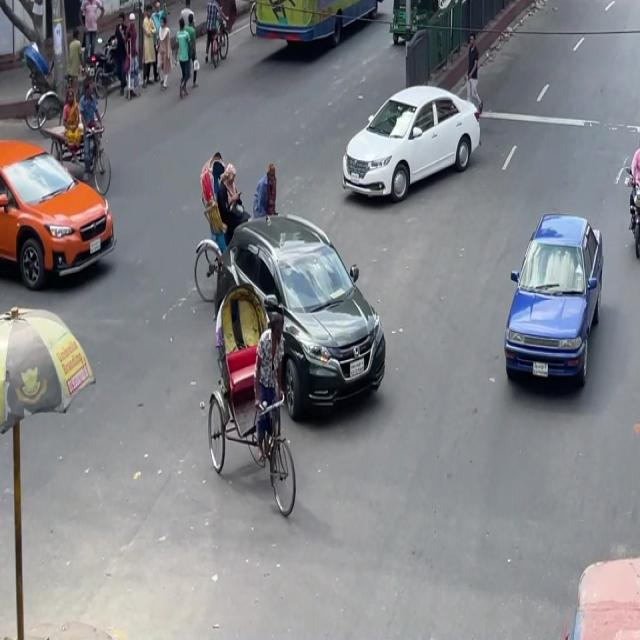bicycle: (202, 17, 234, 70)
bus: (254, 0, 395, 44)
car: (208, 199, 394, 427), (494, 202, 611, 404), (334, 65, 486, 212), (0, 135, 119, 307)
motorbike: (619, 121, 640, 268)
